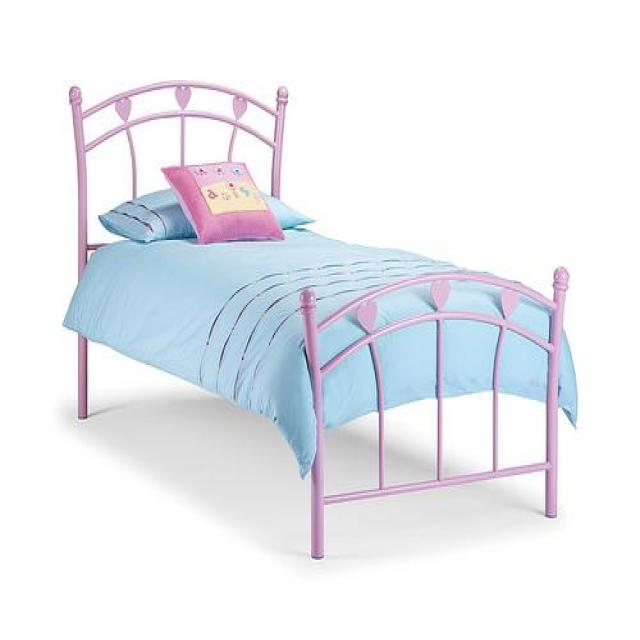bed: (66, 77, 578, 565)
